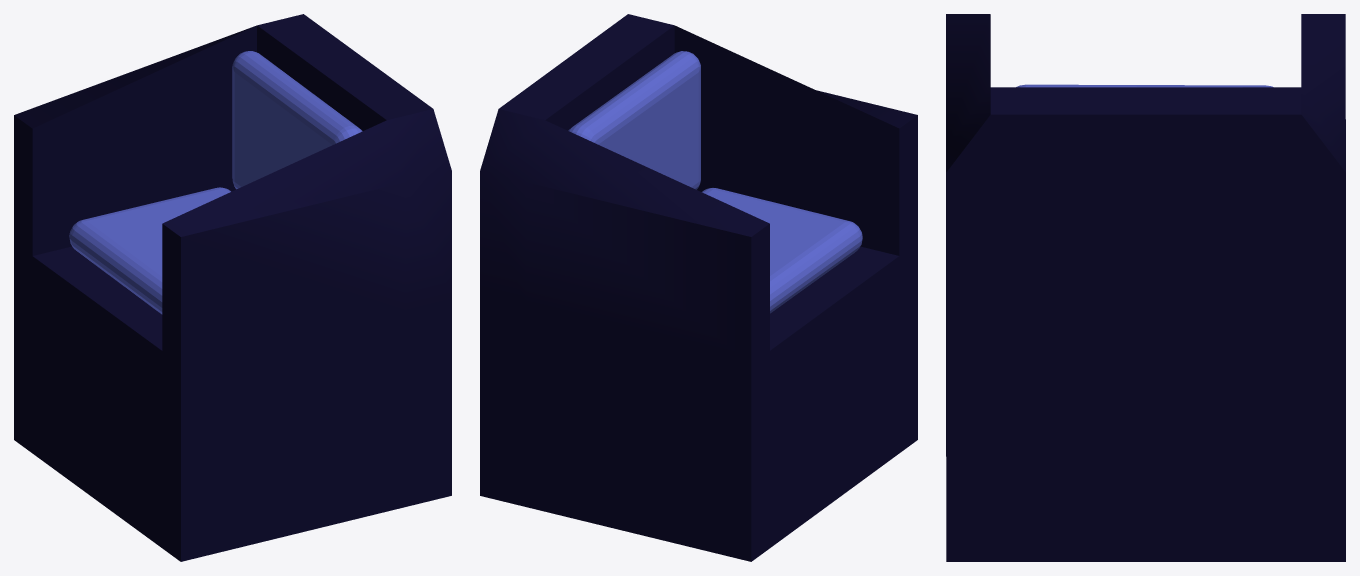
File: livingroom_smallsofa.fbx
3 renders of one model, left to right at view 1: azimuth 30°, elevation 25°; view 2: azimuth 150°, elevation 25°; view 3: azimuth 270°, elevation 25°, orthographic. The views are drawn at different scales.
Parts seen in each view (by area): view 1: sofa_small_1, cuchion_2_1, cuchion_1; view 2: sofa_small_1, cuchion_2_1, cuchion_1; view 3: sofa_small_1, cuchion_2_1.
Boxes of the visible parts, x1,y1,x2,y2 form: sofa_small_1: (14, 14, 451, 561); cuchion_2_1: (232, 51, 362, 189); cuchion_1: (69, 187, 230, 314); sofa_small_1: (480, 14, 917, 561); cuchion_2_1: (568, 51, 700, 189); cuchion_1: (702, 188, 862, 313); sofa_small_1: (946, 14, 1345, 561); cuchion_2_1: (1016, 84, 1273, 87).
Bounding box in the file's own units: 60.41 × 79.41 × 64.32.
